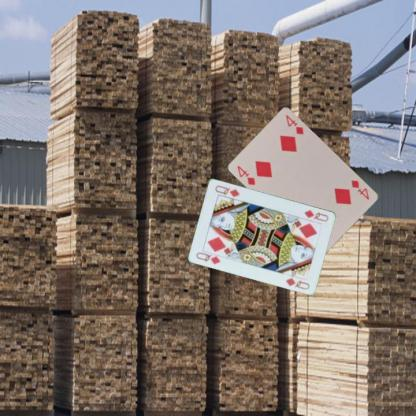4d: (349, 177, 371, 201), (234, 163, 256, 187)
Qd: (194, 248, 224, 265), (302, 207, 330, 222)
